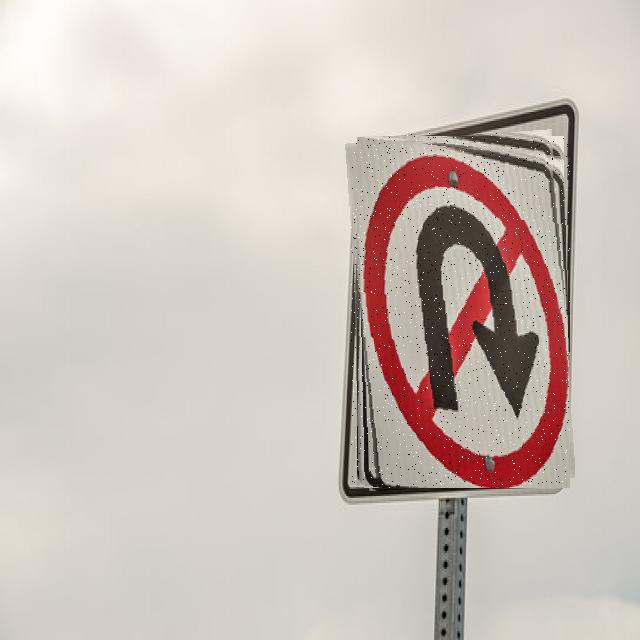no u turn: (351, 133, 570, 488)
